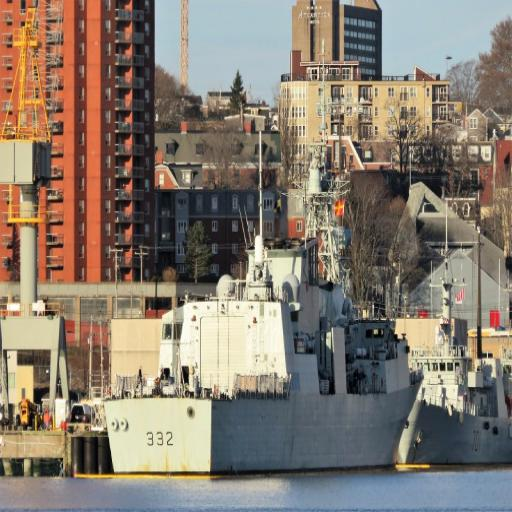Fragata: (99, 27, 428, 479)
